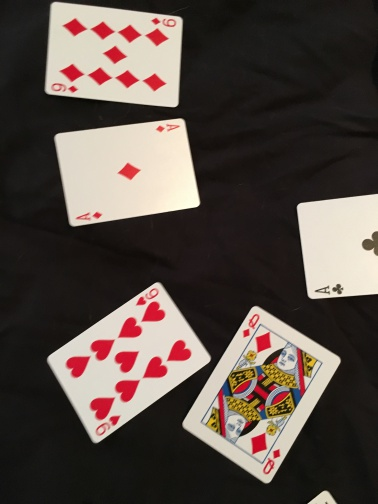ace: (50, 119, 202, 230), (293, 190, 378, 299)
nine: (43, 280, 211, 444), (45, 1, 185, 107)
queen: (187, 302, 343, 482)
